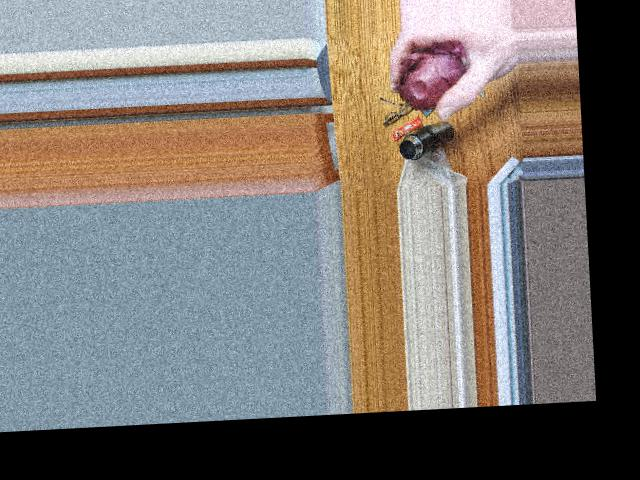onion: (397, 45, 474, 108)
